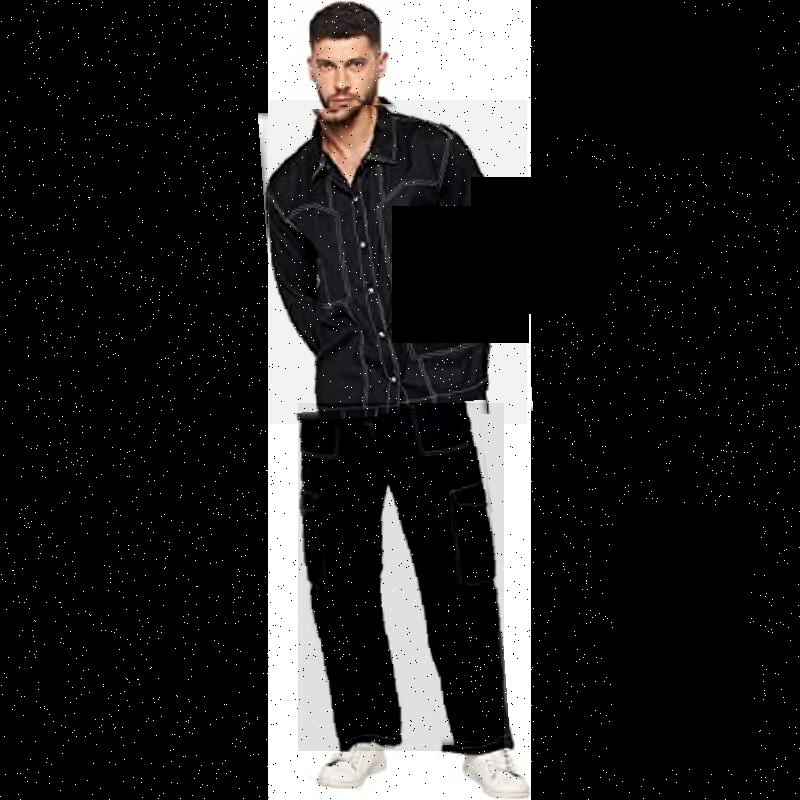Jeans: (298, 403, 504, 751)
Shirt: (263, 100, 527, 424)
